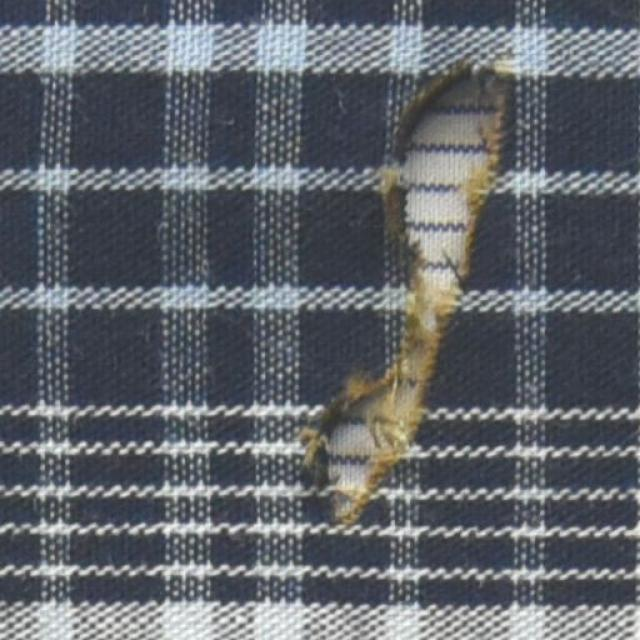Hole: (409, 93, 484, 302), (329, 385, 394, 491)
Stain: (305, 60, 505, 522)
